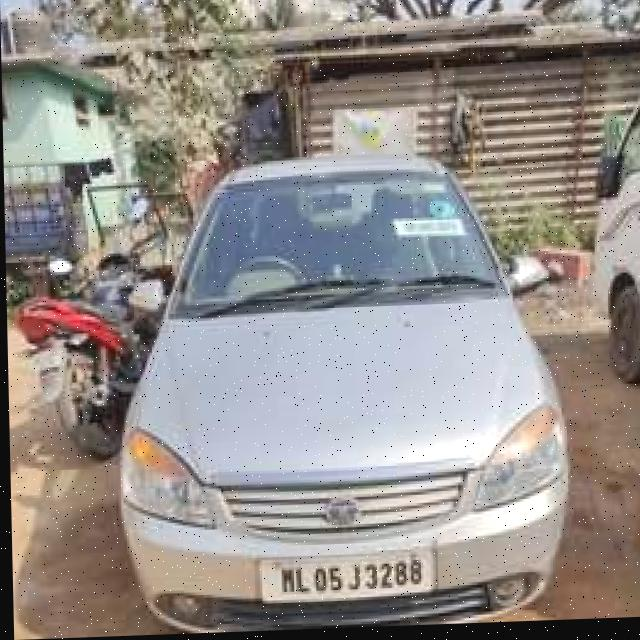plate: (261, 551, 432, 609), (28, 344, 65, 372)
